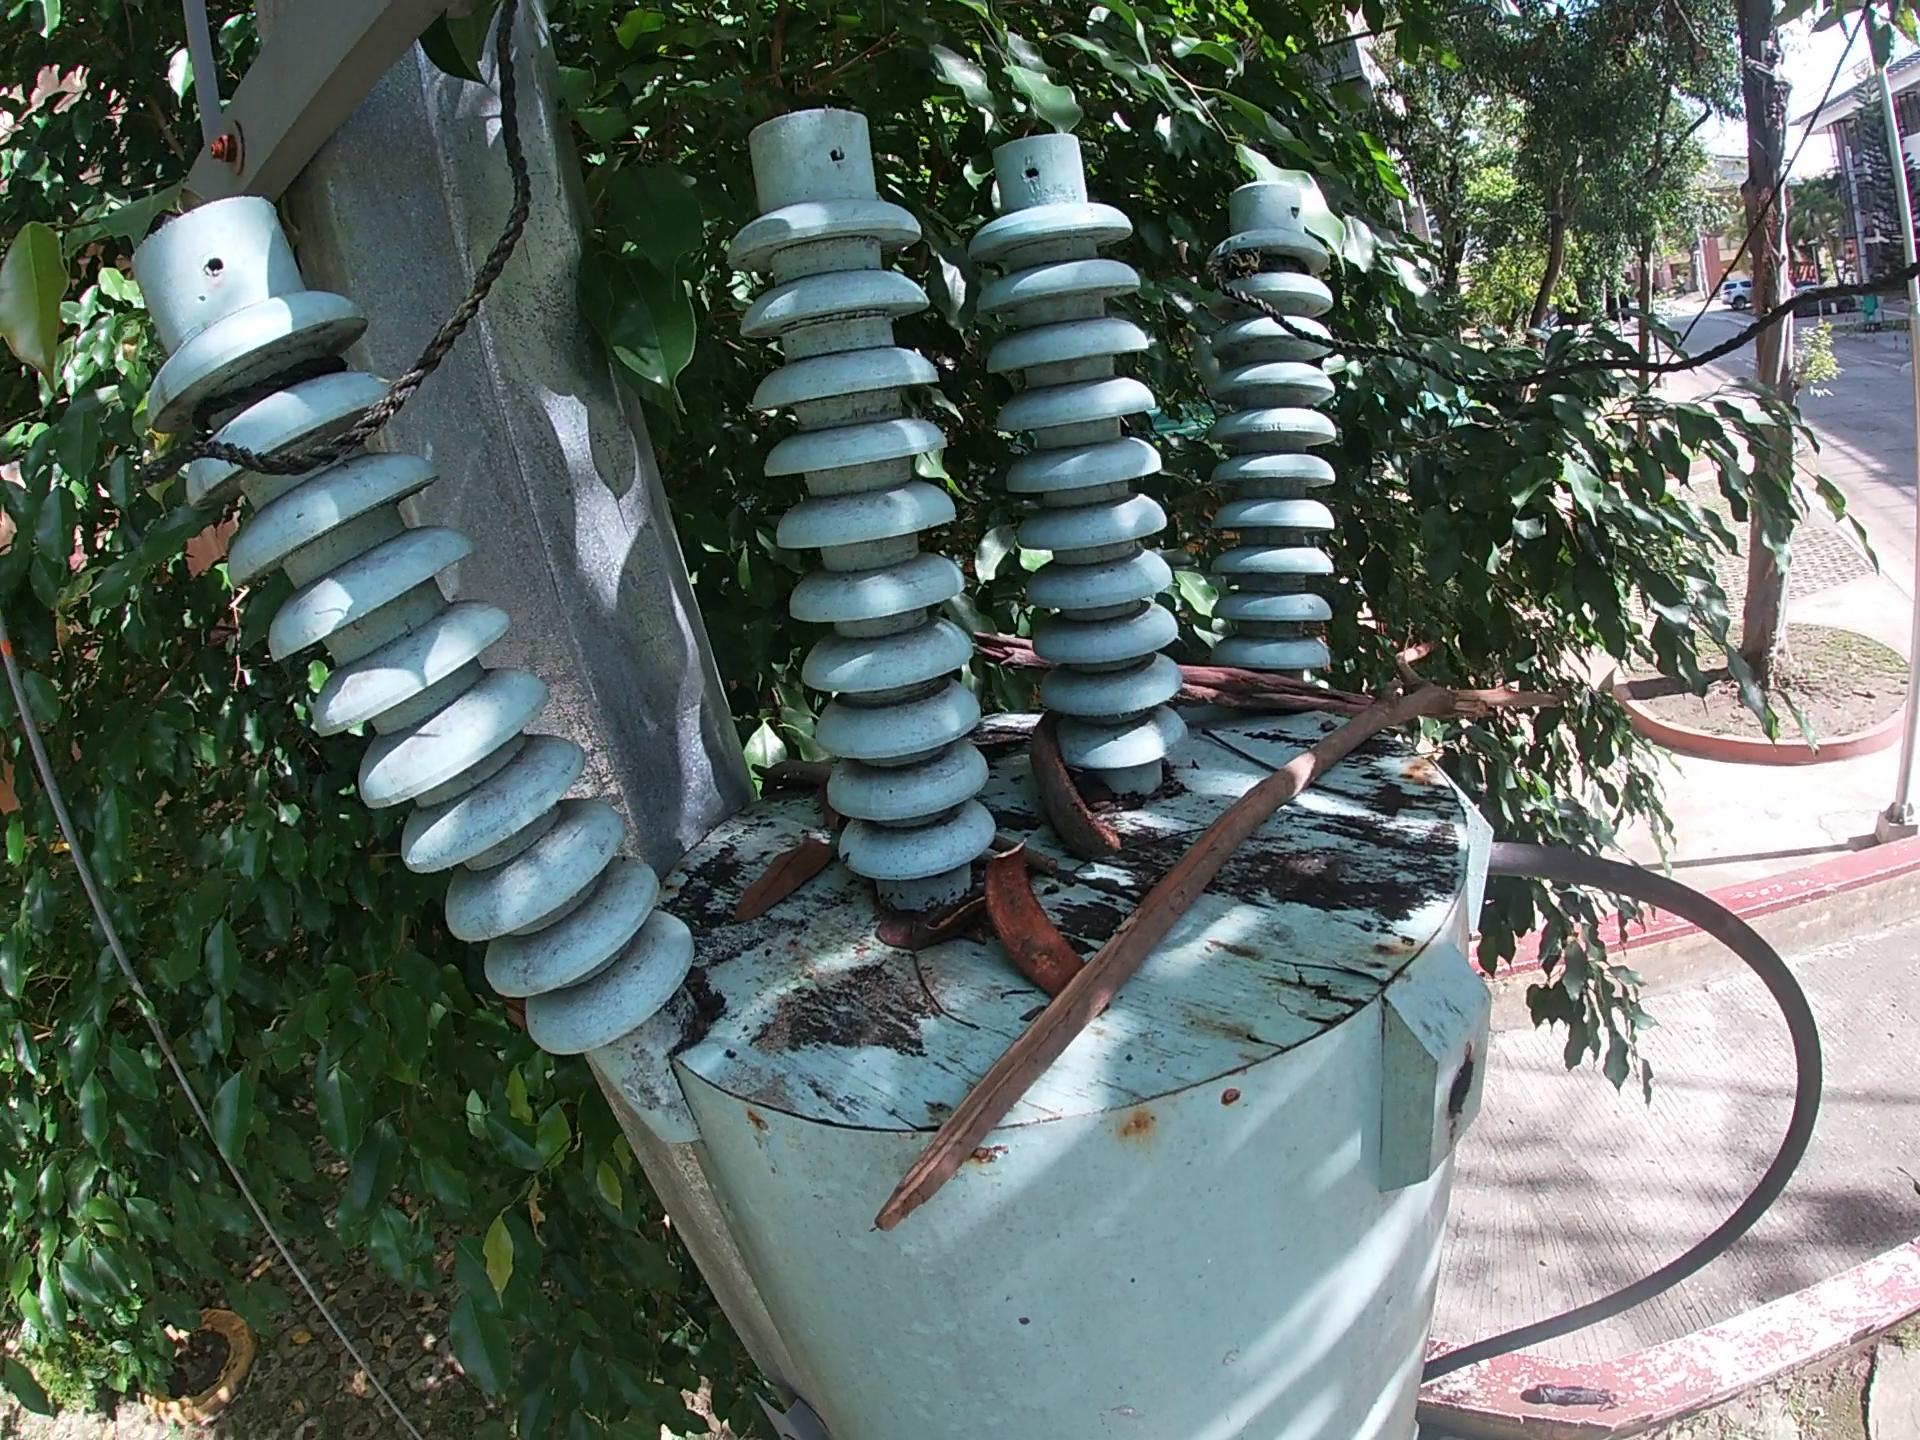leaf: (720, 832, 844, 926), (868, 926, 919, 959), (773, 773, 815, 802)
mahogany fruit: (977, 839, 1076, 986), (1036, 694, 1119, 868)
tree branch: (887, 637, 1609, 1249), (1182, 646, 1401, 700), (906, 948, 984, 1038), (754, 750, 848, 803), (924, 889, 993, 956), (1309, 776, 1485, 802), (986, 836, 1079, 879), (1187, 722, 1273, 765), (958, 626, 1036, 672)
